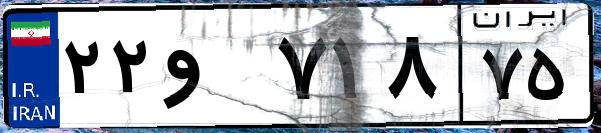1: (330, 28, 385, 110)
2: (57, 26, 110, 100), (110, 28, 158, 98)
5: (525, 38, 570, 115)
7: (270, 28, 330, 110), (475, 38, 525, 113)
8: (385, 28, 445, 110)
و: (158, 20, 270, 120)
